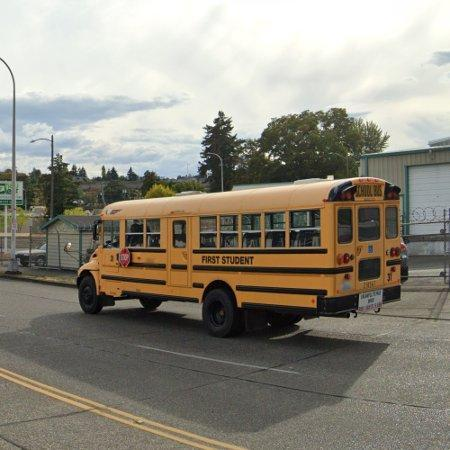buses: (78, 178, 400, 337)
